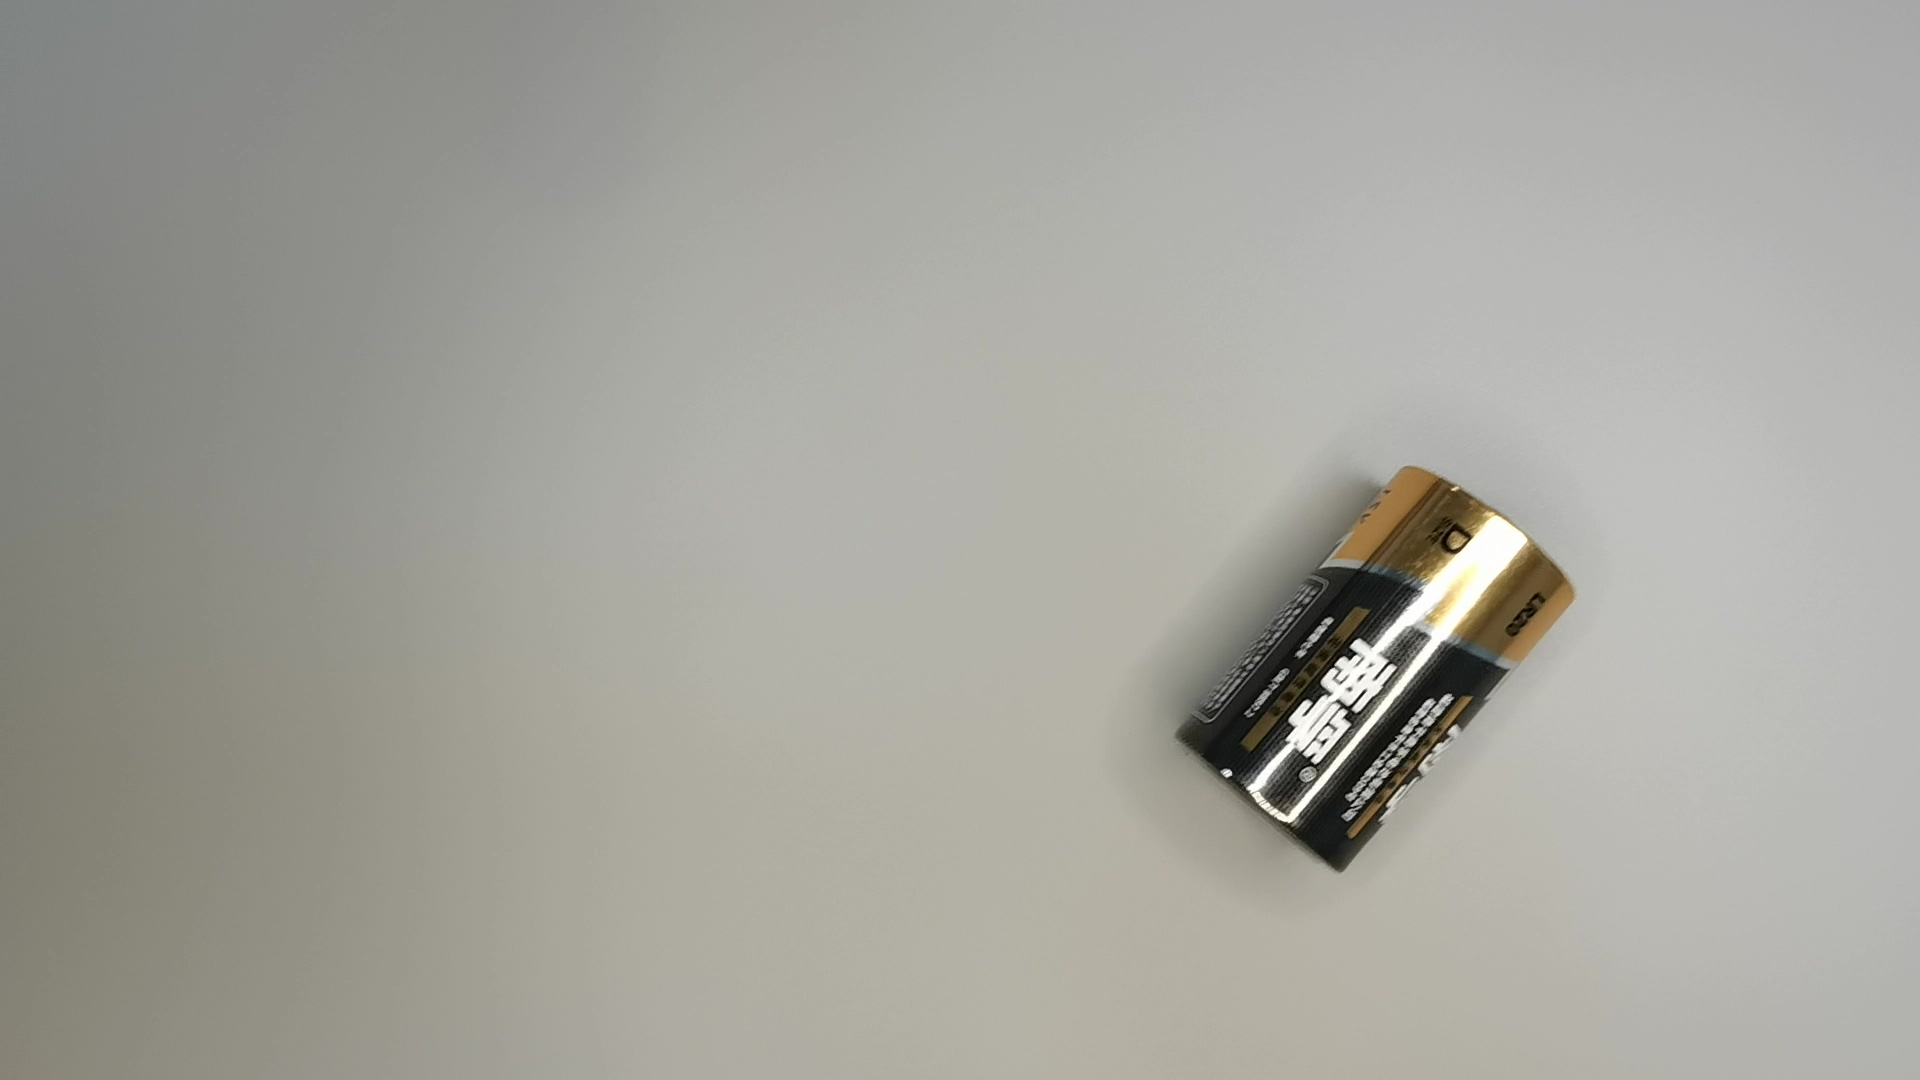battery: (1174, 454, 1589, 878)
